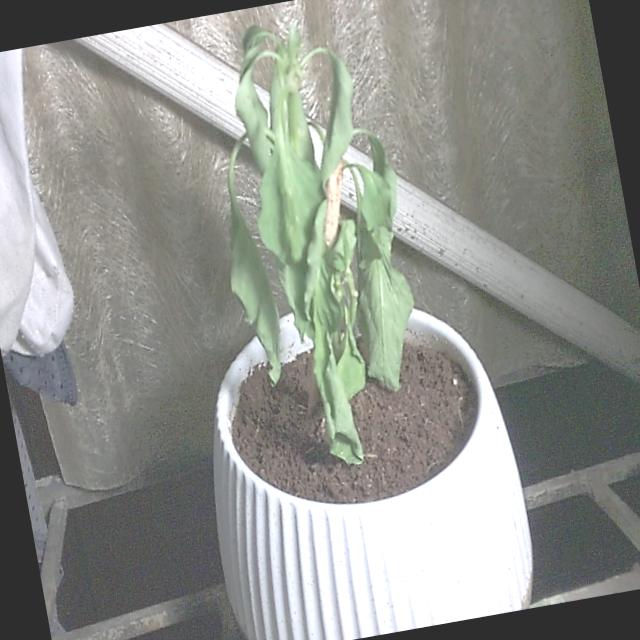Leaf: (250, 143, 347, 340), (215, 212, 292, 400), (346, 248, 429, 402), (304, 321, 370, 474)
